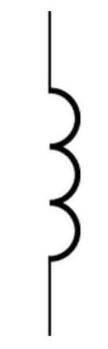inductor: (30, 71, 92, 283)
